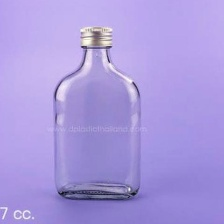bottle: (48, 21, 150, 203)
